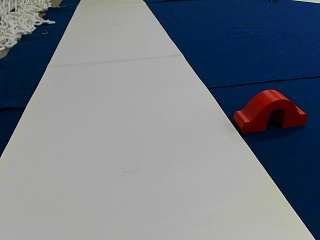bridge: (236, 90, 305, 130)
